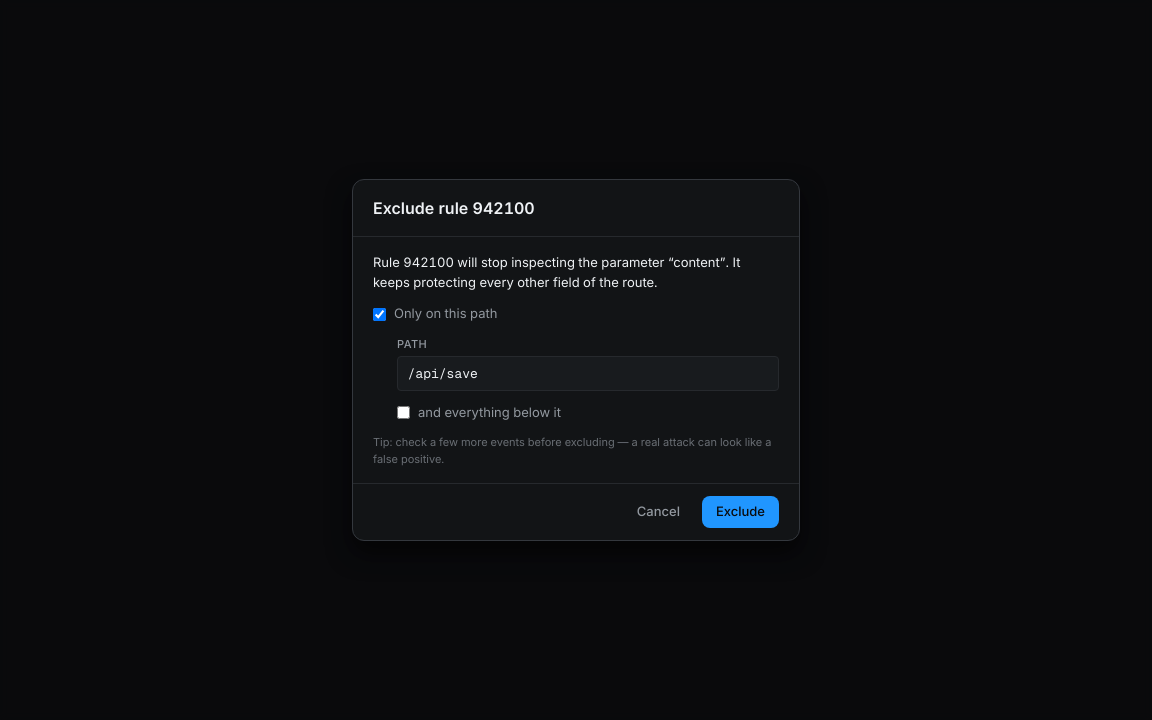
Test: WafExcludeDialog › keeps the dialog open with the server error otherwise
Click the button with test id "waf-exclude-submit" at (740, 512), box [702,496,779,528]
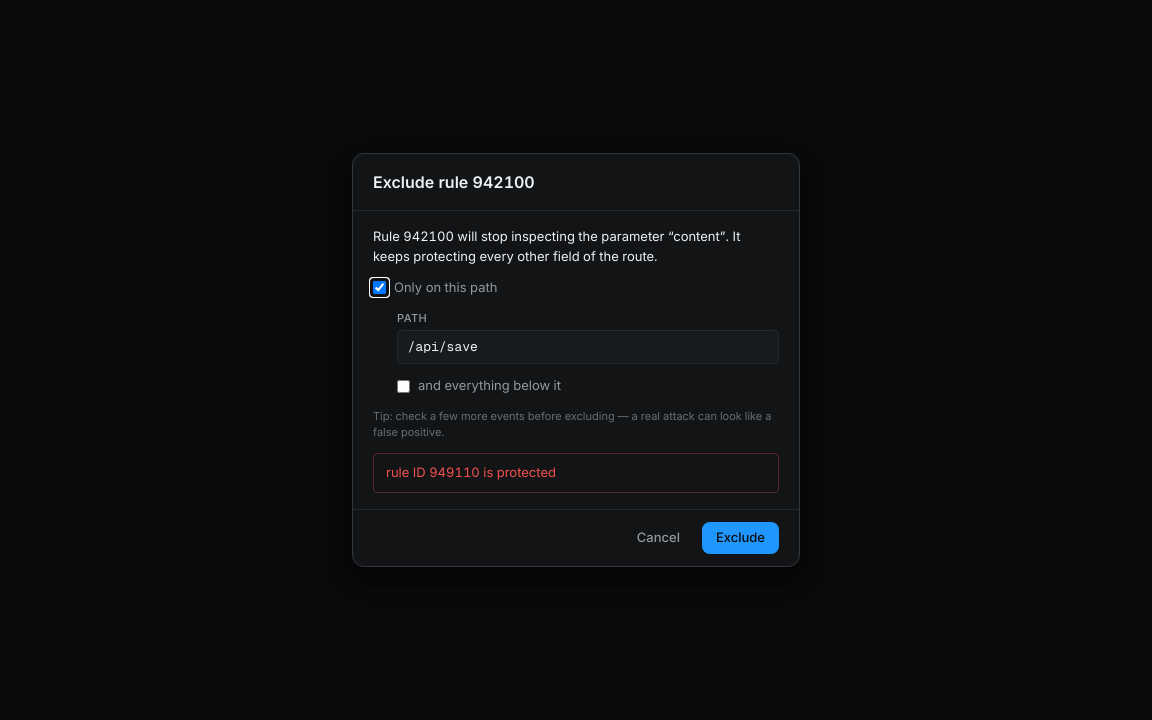
Expected: the message "rule ID 949110 is protected" is shown, [373,453,779,494]
Expected: the message with test id "waf-exclude-error" shows "949110", [386,464,556,480]
